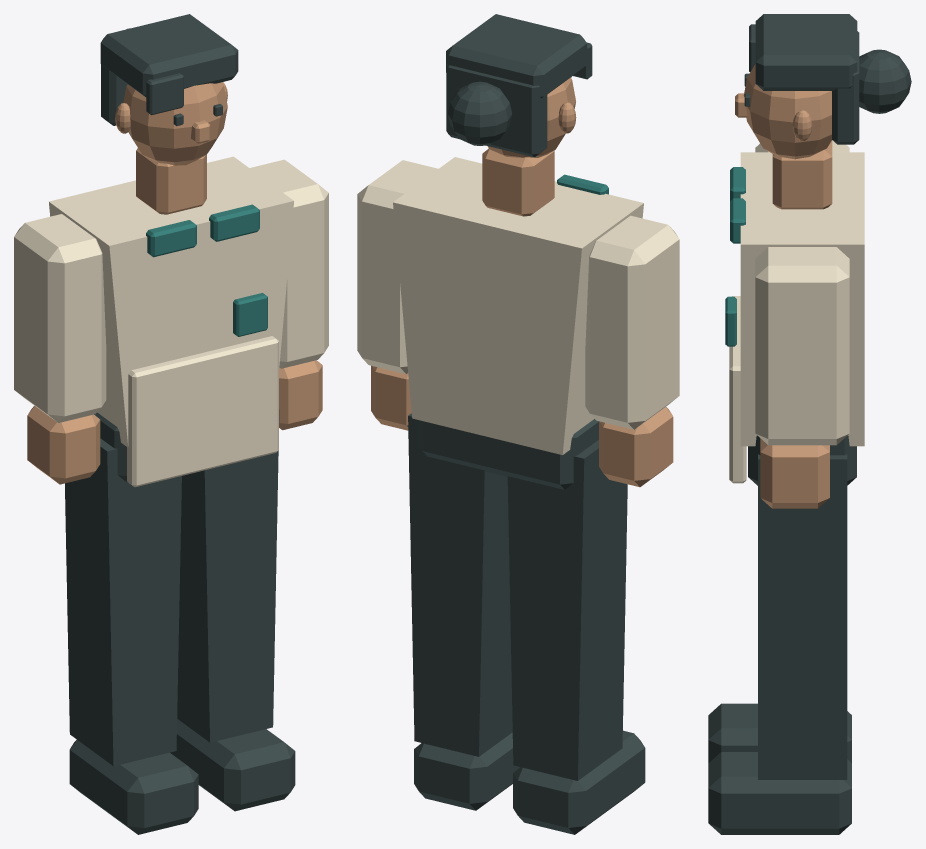
The model's file is medic.glb.
3 renders of one model, left to right at view 1: azimuth 30°, elevation 25°; view 2: azimuth 150°, elevation 25°; view 3: azimuth 270°, elevation 25°, orthographic. The views are drawn at different scales.
Parts seen in each view (by area): view 1: batch-medic-root-cream, batch-right-leg-dark, batch-left-leg-dark, batch-right-arm-cream, batch-medic-root-dark, batch-medic-root-skin, batch-left-arm-cream, batch-right-arm-skin, batch-medic-root-teal, batch-left-arm-skin; view 2: batch-medic-root-cream, batch-right-leg-dark, batch-left-leg-dark, batch-medic-root-dark, batch-right-arm-cream, batch-left-arm-cream, batch-medic-root-skin, batch-right-arm-skin, batch-left-arm-skin, batch-medic-root-teal; view 3: batch-left-leg-dark, batch-left-arm-cream, batch-medic-root-cream, batch-medic-root-dark, batch-medic-root-skin, batch-left-arm-skin, batch-right-leg-dark, batch-medic-root-teal.
Boxes of the visible parts, bbox=[...] form: batch-medic-root-cream: bbox=[49, 156, 293, 487]; batch-right-leg-dark: bbox=[65, 438, 198, 834]; batch-left-leg-dark: bbox=[170, 409, 295, 811]; batch-right-arm-cream: bbox=[14, 214, 106, 422]; batch-medic-root-dark: bbox=[94, 14, 238, 481]; batch-medic-root-skin: bbox=[115, 82, 227, 214]; batch-left-arm-cream: bbox=[250, 159, 328, 368]; batch-right-arm-skin: bbox=[27, 406, 100, 484]; batch-medic-root-teal: bbox=[146, 204, 267, 336]; batch-left-arm-skin: bbox=[279, 360, 322, 430]; batch-medic-root-cream: bbox=[393, 157, 643, 454]; batch-right-leg-dark: bbox=[507, 440, 645, 834]; batch-left-leg-dark: bbox=[408, 413, 519, 810]; batch-medic-root-dark: bbox=[418, 14, 598, 489]; batch-right-arm-cream: bbox=[585, 215, 679, 429]; batch-left-arm-cream: bbox=[357, 160, 438, 374]; batch-medic-root-skin: bbox=[482, 77, 576, 216]; batch-right-arm-skin: bbox=[599, 407, 673, 487]; batch-left-arm-skin: bbox=[371, 365, 411, 430]; batch-medic-root-teal: bbox=[557, 174, 608, 194]; batch-left-leg-dark: bbox=[708, 454, 851, 834]; batch-left-arm-cream: bbox=[755, 247, 849, 445]; batch-medic-root-cream: bbox=[729, 152, 864, 483]; batch-medic-root-dark: bbox=[744, 14, 911, 485]; batch-medic-root-skin: bbox=[735, 64, 832, 209]; batch-left-arm-skin: bbox=[760, 438, 829, 508]; batch-right-leg-dark: bbox=[708, 703, 851, 762]; batch-medic-root-teal: bbox=[725, 167, 745, 346].
Size of the model in its own units: 0.67 by 1.7 by 0.41.
